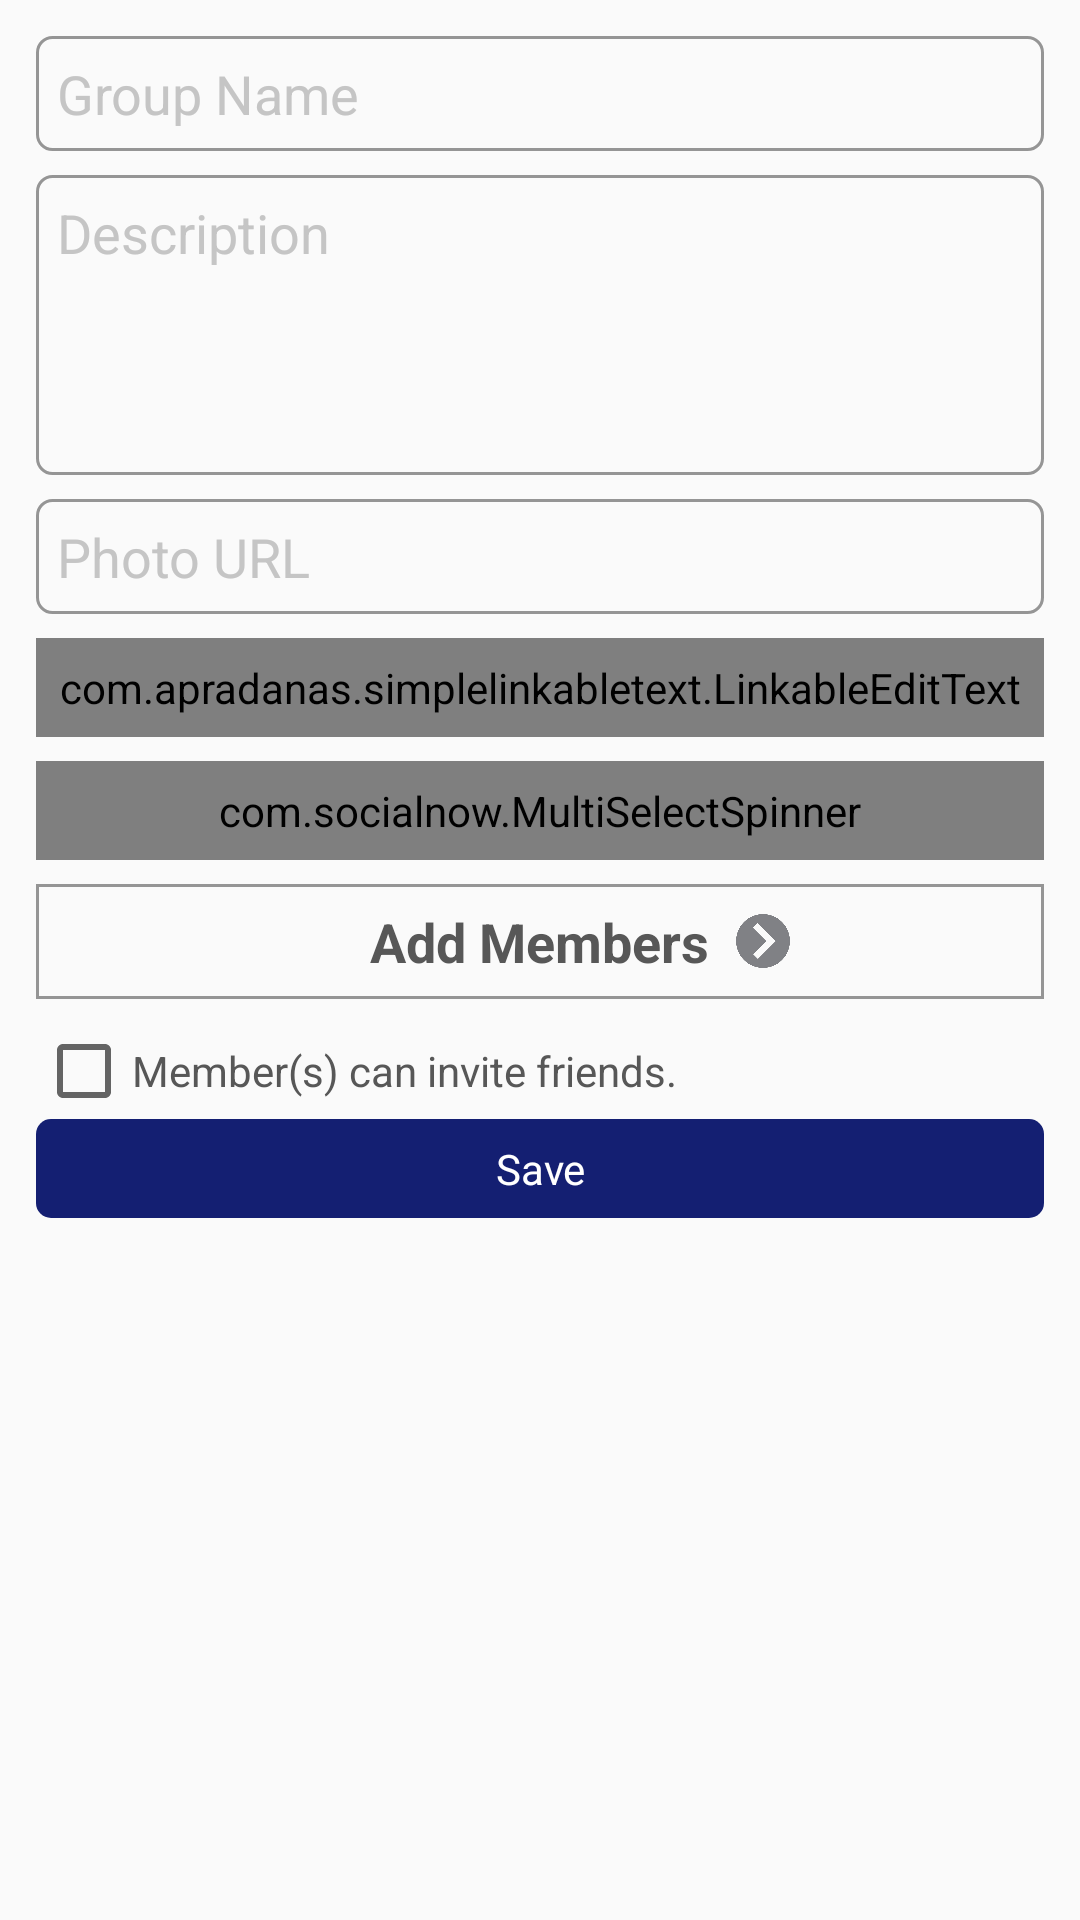

Where icons sit on this 1080*1920 app screen, as (x1, y1, x2, y2):
rightarrow: (736, 914, 790, 968)
